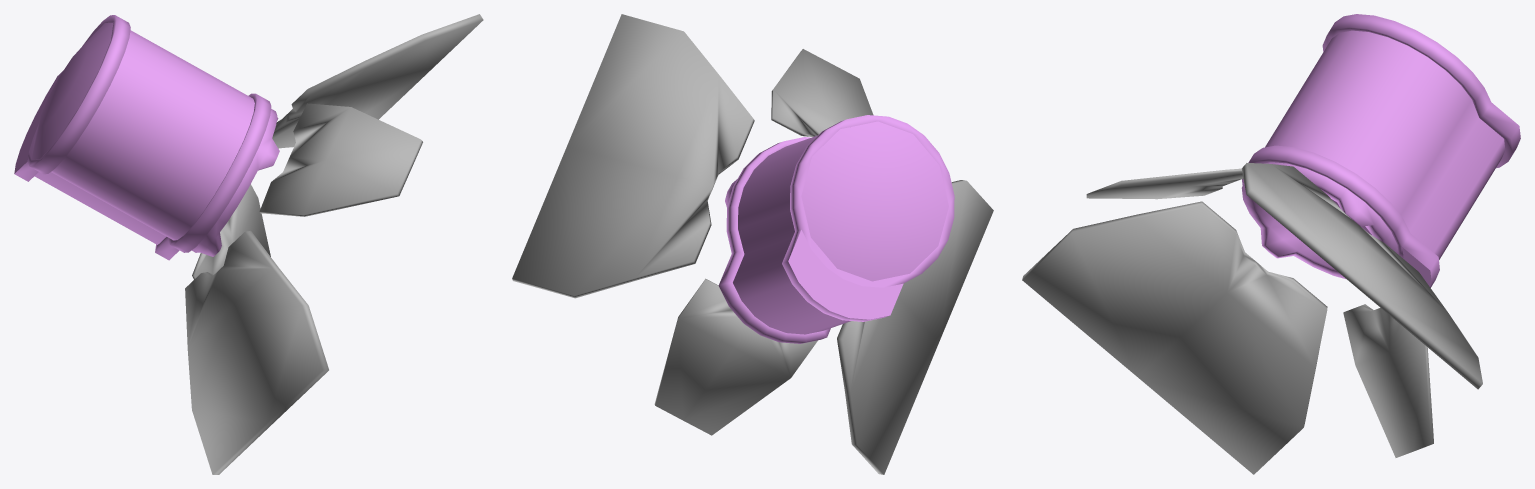
The model's file is LampadaAmericana.fbx.
3 renders of one model, left to right at view 1: azimuth 30°, elevation 25°; view 2: azimuth 150°, elevation 25°; view 3: azimuth 270°, elevation 25°, orthographic. The views are drawn at different scales.
Parts seen in each view (by area): view 1: LampadaAmericana1; view 2: LampadaAmericana1; view 3: LampadaAmericana1.
Part boxes in pixels (x1,y1,x2,y2): LampadaAmericana1: (14, 14, 483, 474); LampadaAmericana1: (512, 14, 993, 474); LampadaAmericana1: (1022, 14, 1520, 474).
Bounding box in the file's own units: 40.75 × 41.93 × 43.49.
